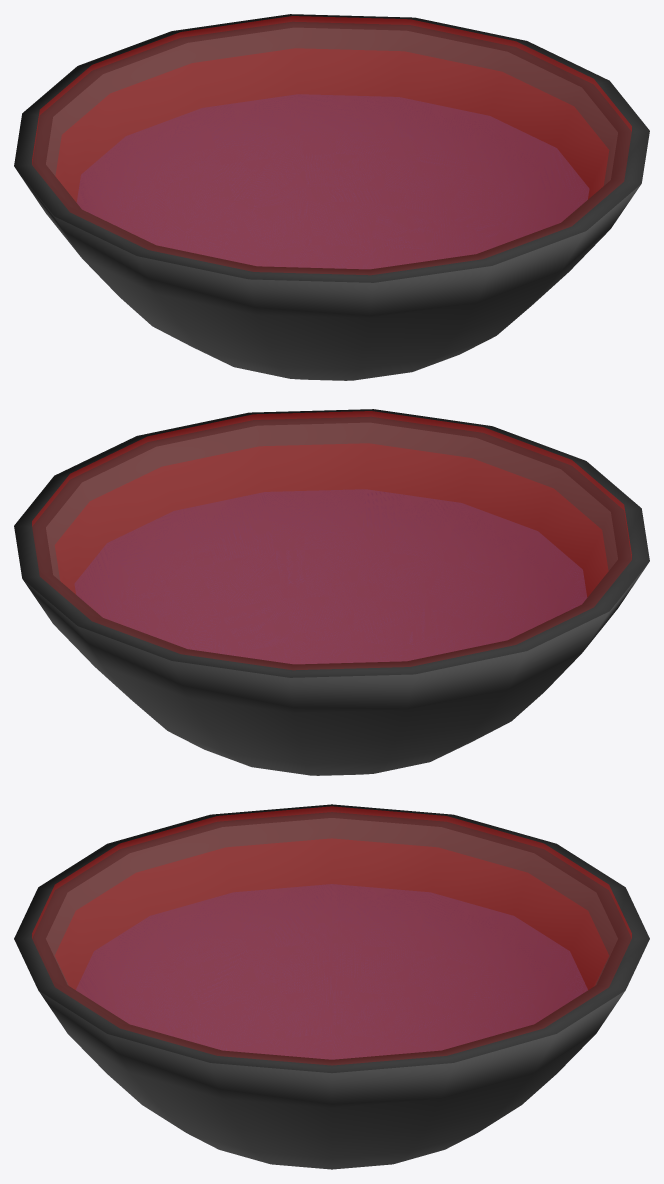
Rendered from Liquid Bowl.fbx.
The picture shows the model from 3 angles, top to bottom: view 1: azimuth 30°, elevation 25°; view 2: azimuth 150°, elevation 25°; view 3: azimuth 270°, elevation 25°; orthographic projection.
Visible parts, largest first — view 1: Bowl, IN, Water; view 2: Bowl, IN, Water; view 3: Bowl, IN, Water.
Part boxes in pixels (<box>): Bowl: <box>14,14,649,380</box>; IN: <box>32,16,631,274</box>; Water: <box>77,94,589,268</box>; Bowl: <box>14,409,649,775</box>; IN: <box>32,411,631,669</box>; Water: <box>75,489,586,663</box>; Bowl: <box>14,804,649,1169</box>; IN: <box>32,806,631,1064</box>; Water: <box>76,884,587,1059</box>.
Size of the model in its own units: 0.2772 by 0.0928 by 0.2772.
